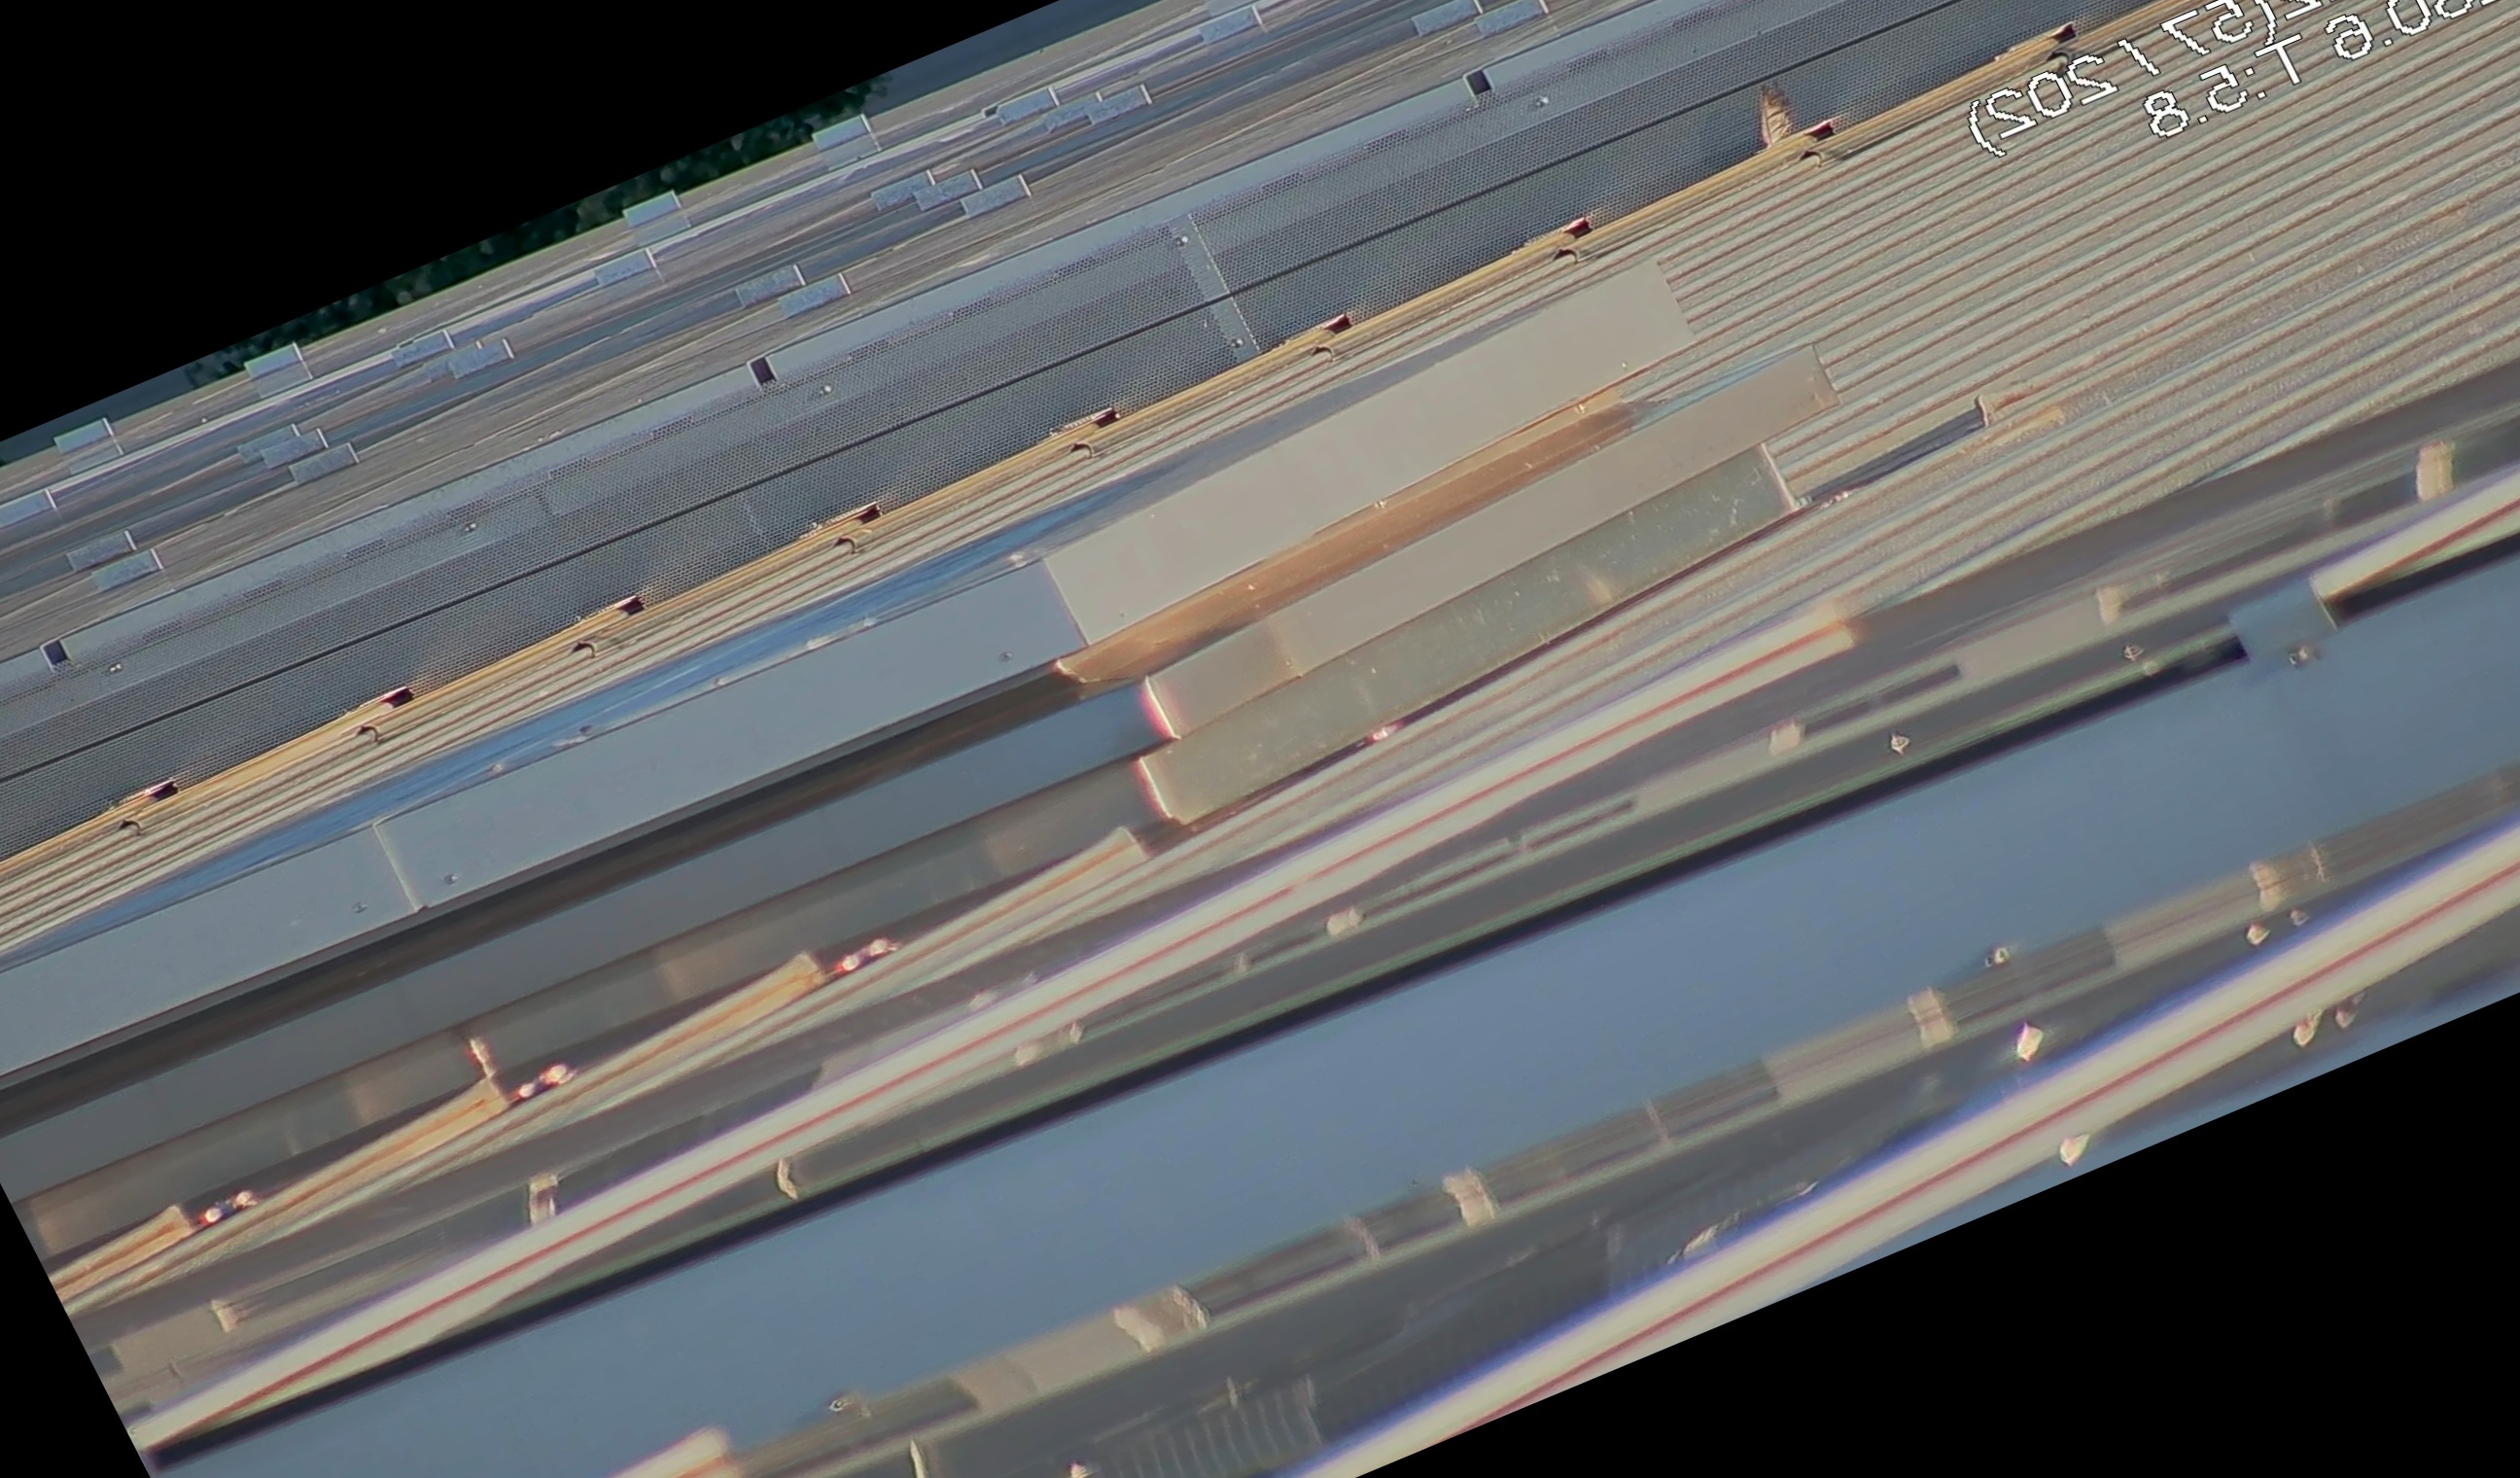Other: (1730, 56, 1836, 160)
